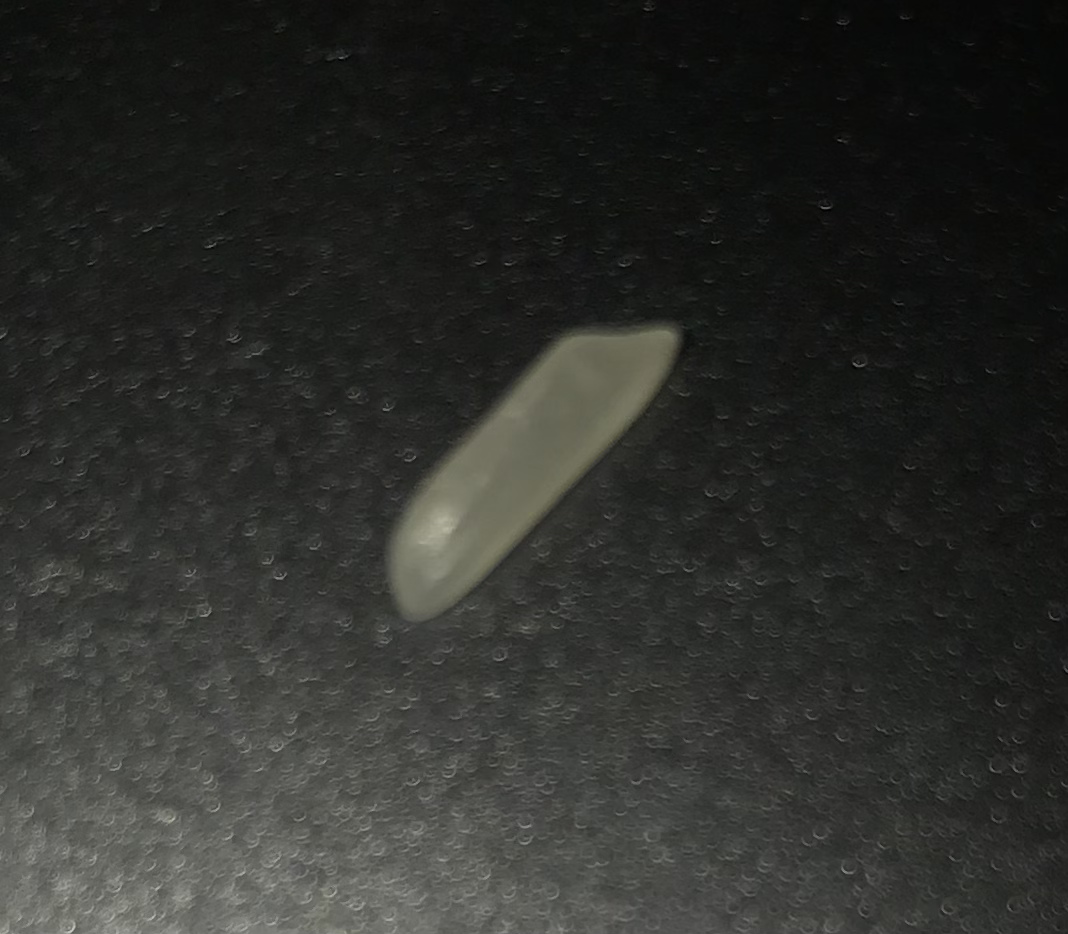Gao Thom My: (373, 296, 700, 634)
